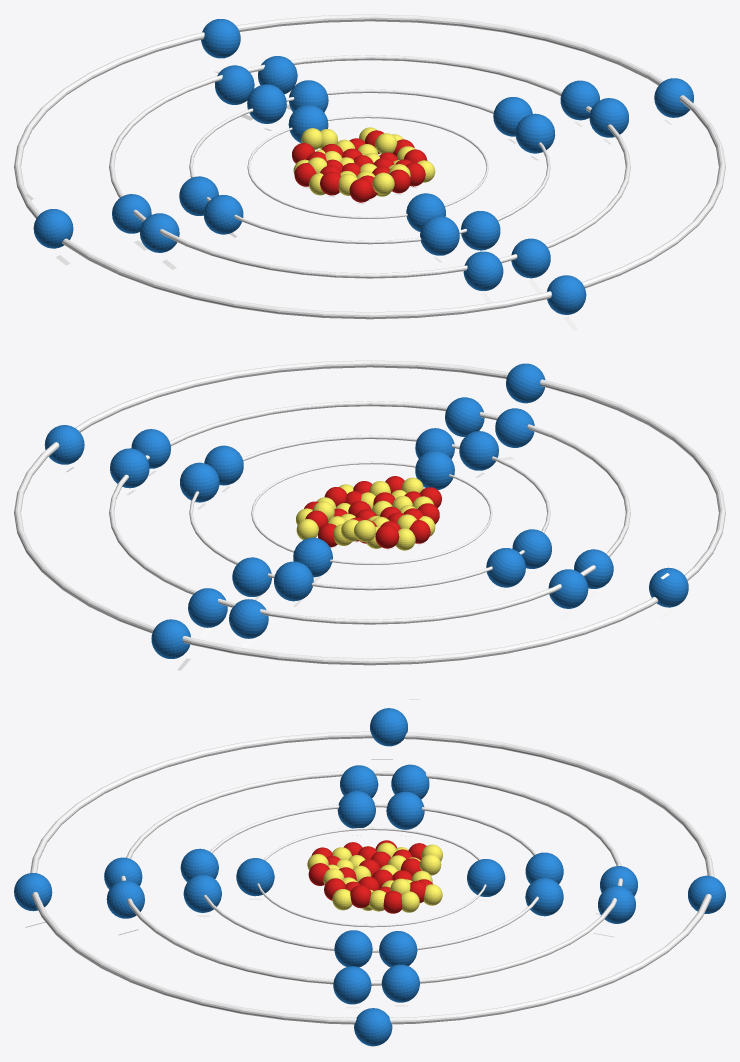
The picture shows the model from 3 angles, top to bottom: view 1: azimuth 30°, elevation 25°; view 2: azimuth 150°, elevation 25°; view 3: azimuth 270°, elevation 25°; orthographic projection. The views are drawn at different scales.
Visible parts, largest first — view 1: Torus.004, Torus.003, Torus.002, Torus.001, -.008, -.004, -.017, -.005, -.020, -.002, -.019, -.003 (+14 smaller); view 2: Torus.004, Torus.003, Torus.002, Torus.001, -.004, -.008, -.009, -.006, -.007, -.016, -.021, -.017 (+14 smaller); view 3: Torus.004, Torus.003, Torus.002, Torus.001, -.015, -.010, -.006, -.018, -.019, -.002, -.003, - (+14 smaller).
Part boxes in pixels (bbox=[...]): Torus.004: bbox=[14, 14, 725, 319]; Torus.003: bbox=[109, 55, 630, 278]; Torus.002: bbox=[189, 89, 550, 244]; Torus.001: bbox=[247, 115, 488, 218]; -.008: bbox=[420, 216, 459, 255]; -.004: bbox=[247, 84, 286, 123]; -.017: bbox=[463, 251, 503, 290]; -.005: bbox=[461, 211, 500, 250]; -.020: bbox=[201, 19, 240, 58]; -.002: bbox=[515, 113, 555, 153]; -.019: bbox=[33, 209, 73, 248]; -.003: bbox=[203, 195, 243, 234]; Torus.004: bbox=[14, 360, 725, 665]; Torus.003: bbox=[109, 401, 630, 624]; Torus.002: bbox=[189, 435, 550, 590]; Torus.001: bbox=[251, 461, 492, 564]; -.004: bbox=[274, 561, 313, 601]; -.008: bbox=[459, 431, 498, 470]; -.009: bbox=[232, 557, 271, 596]; -.006: bbox=[486, 548, 525, 587]; -.007: bbox=[180, 462, 219, 502]; -.016: bbox=[229, 599, 268, 638]; -.021: bbox=[506, 363, 545, 403]; -.017: bbox=[495, 408, 534, 447]; Torus.004: bbox=[30, 731, 714, 1024]; Torus.003: bbox=[121, 770, 622, 985]; Torus.002: bbox=[203, 803, 538, 952]; Torus.001: bbox=[257, 827, 486, 927]; -.015: bbox=[333, 966, 371, 1004]; -.010: bbox=[381, 964, 419, 1002]; -.006: bbox=[386, 791, 424, 829]; -.018: bbox=[354, 1008, 392, 1046]; -.019: bbox=[370, 708, 407, 746]; -.002: bbox=[334, 930, 372, 967]; -.003: bbox=[337, 791, 375, 828]; -: bbox=[236, 858, 274, 896].
Bounding box in the file's own units: 8.74 × 0.9451 × 8.66.
